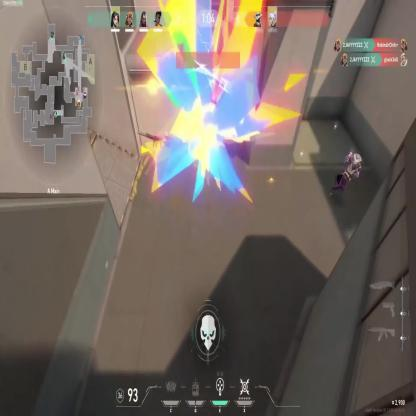enemy: (328, 148, 362, 202)
enemy_head: (353, 151, 361, 164)
